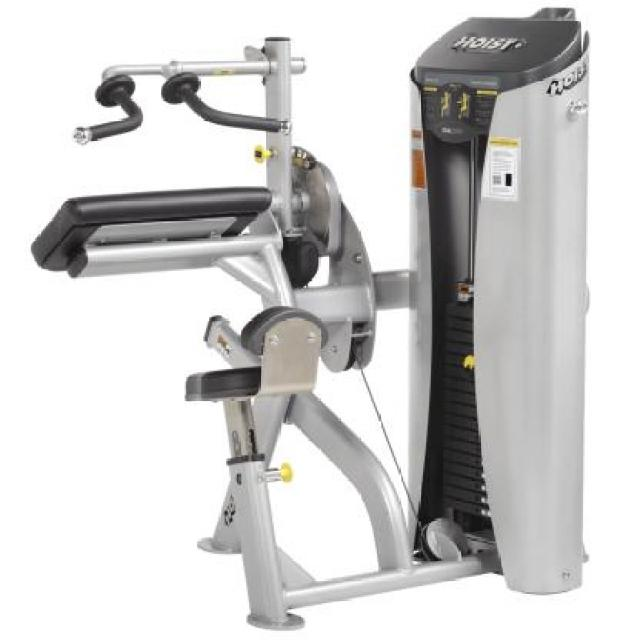arm curl machine: (31, 8, 598, 632)
